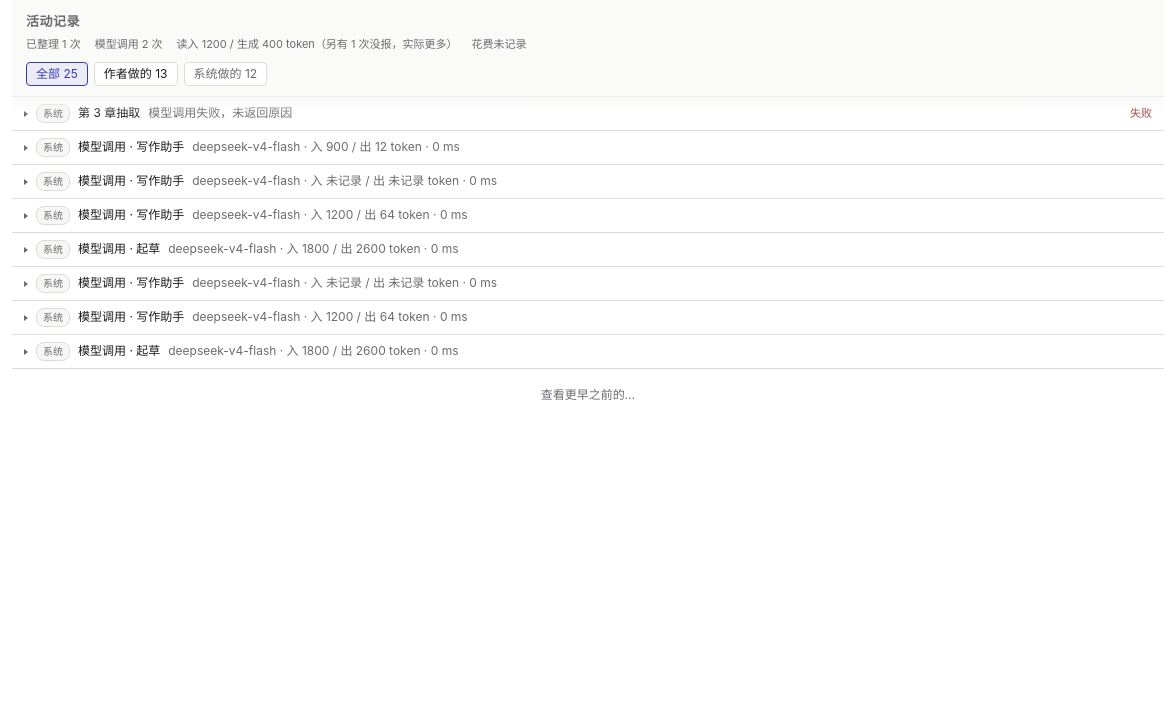
Test case: 活动记录 › 没跑成的那一条上有一颗**真能点**的按钮，打的就是后端给的那条路
The width and height of the screenshot is (1176, 720).
Click the button "系统 第 3 章抽取 模型调用失败，未返回原因 失败" at (53, 114), box [12, 97, 1164, 130]
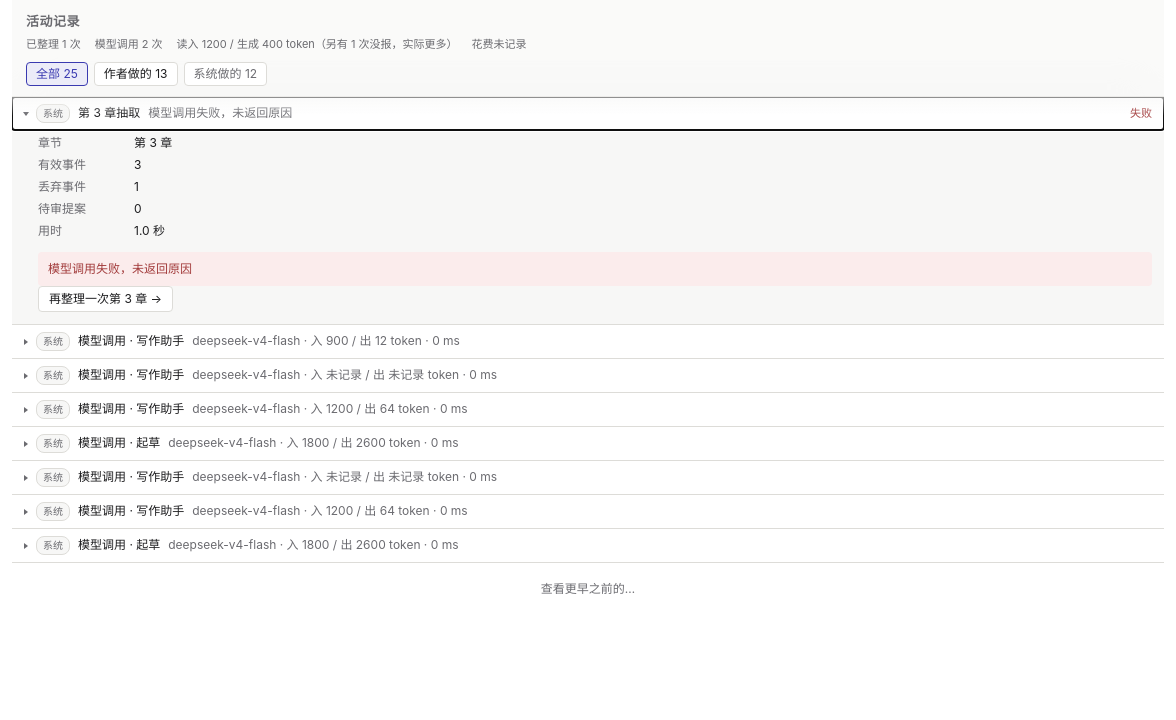
Click the button "再整理一次第 3 章 →" at (106, 299), box [38, 286, 173, 312]
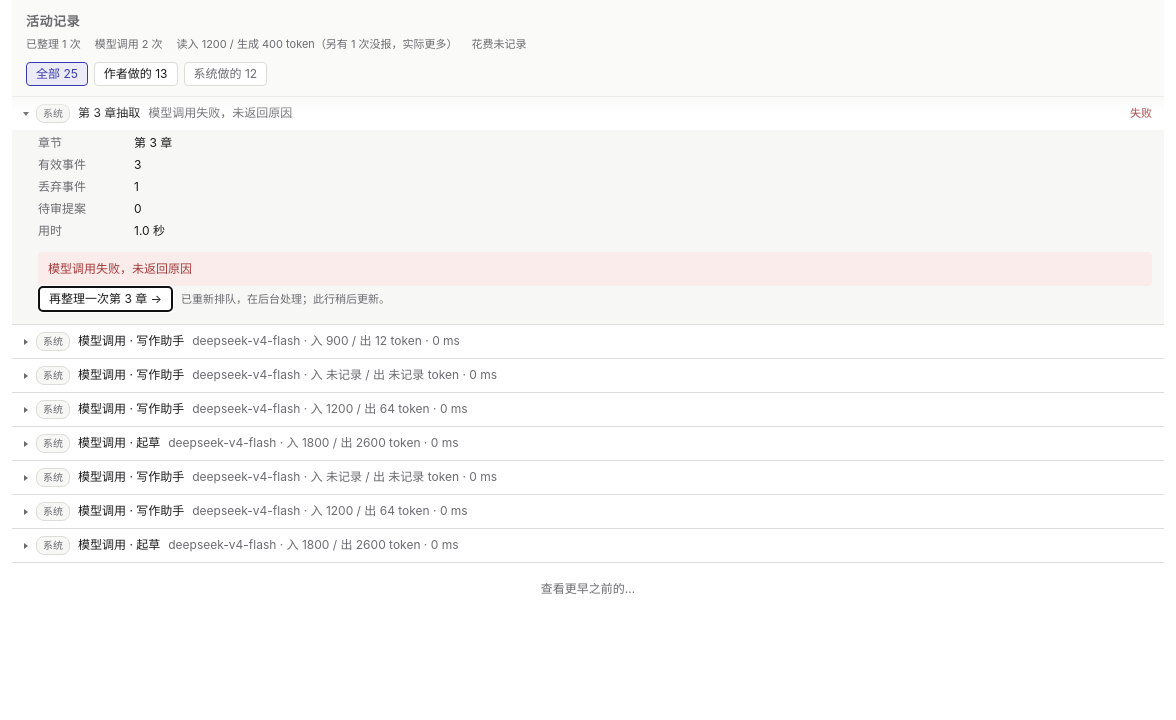
Expected: the text "已重新排队，在后台处理；此行稍后更新。" is shown, [181, 291, 390, 307]
